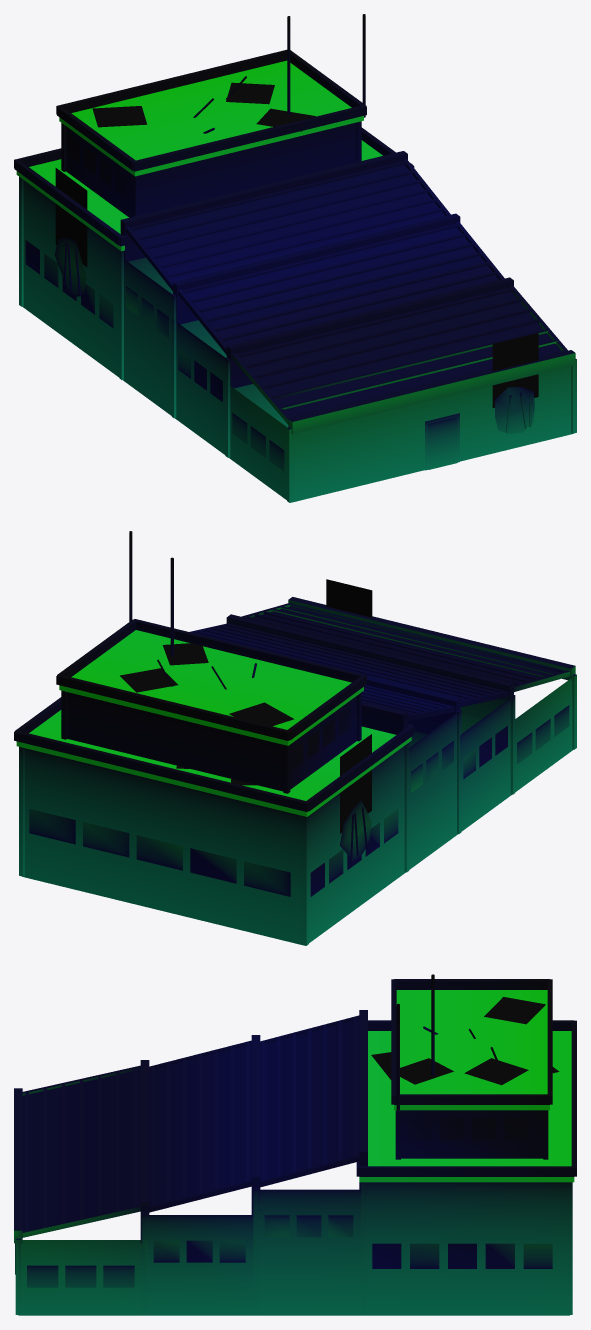
File: d_hq_damaged.glb
3 renders of one model, top to bottom at view 1: azimuth 30°, elevation 25°; view 2: azimuth 150°, elevation 25°; view 3: azimuth 270°, elevation 25°, orthographic. The views are drawn at different scales.
Visible parts, largest first — view 1: lod0; view 2: lod0; view 3: lod0.
Part boxes in pixels (x1=…): lod0: x1=14, y1=14, x2=576, y2=502; lod0: x1=14, y1=531, x2=576, y2=945; lod0: x1=14, y1=974, x2=576, y2=1315.
Size of what is drawn, in the model's own units: 20.2 by 19 by 32.45.
